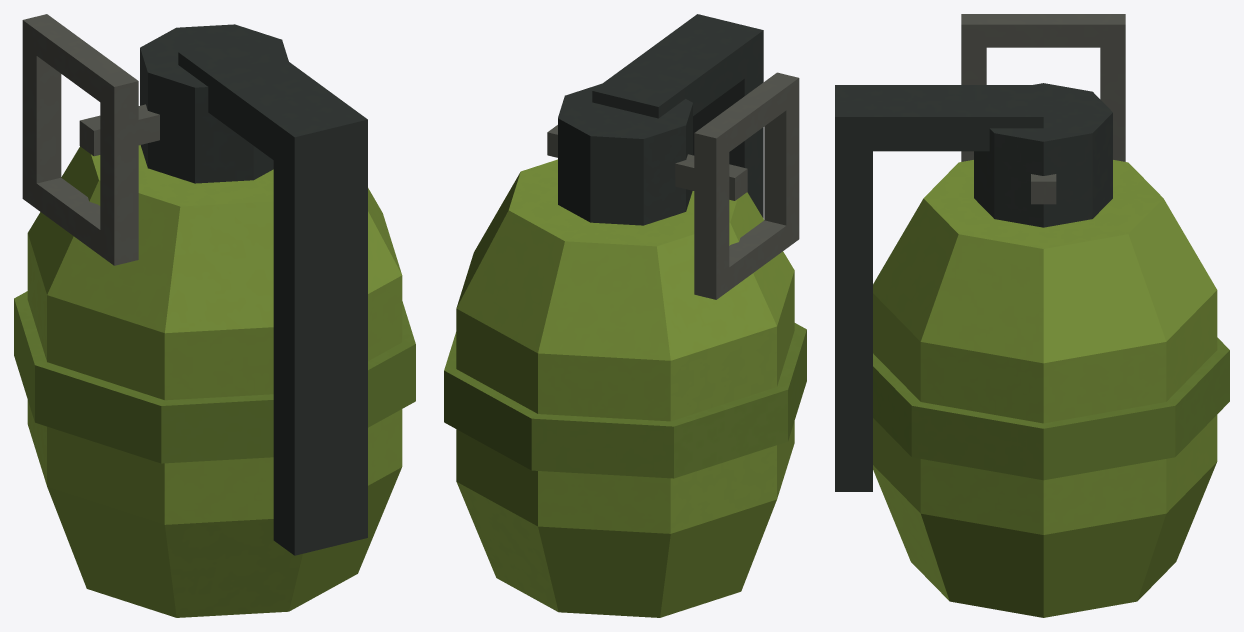
File: frag.glb
3 renders of one model, left to right at view 1: azimuth 30°, elevation 25°; view 2: azimuth 150°, elevation 25°; view 3: azimuth 270°, elevation 25°, orthographic. The views are drawn at different scales.
Parts seen in each view (by area): view 1: Frag Grenade; view 2: Frag Grenade; view 3: Frag Grenade.
Boxes of the visible parts, left/top/right/bottom form: Frag Grenade: left=14, top=14, right=415, bottom=617; Frag Grenade: left=444, top=14, right=806, bottom=617; Frag Grenade: left=835, top=14, right=1229, bottom=617.
Size of the model in its own units: 0.118 by 0.169 by 0.125.
Materials: 2 (2 with a texture image).
